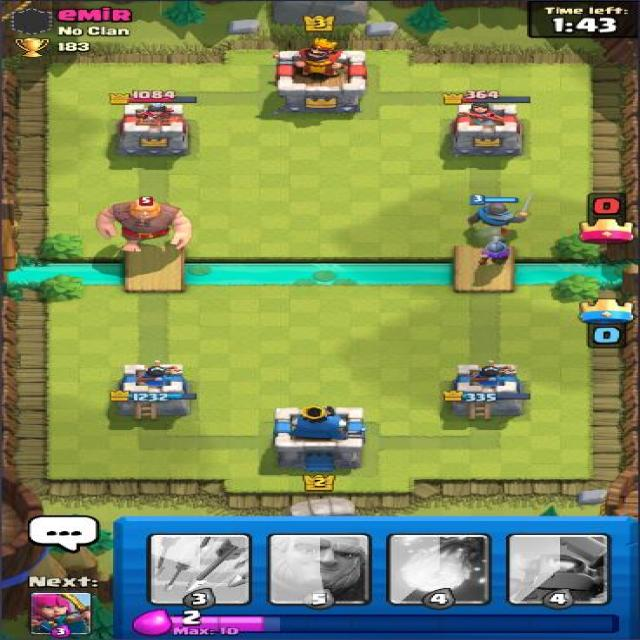Enemy-Giant: (94, 194, 196, 256)
Player-Knight: (461, 192, 539, 235)
Player-Musketeer: (472, 233, 518, 269)
